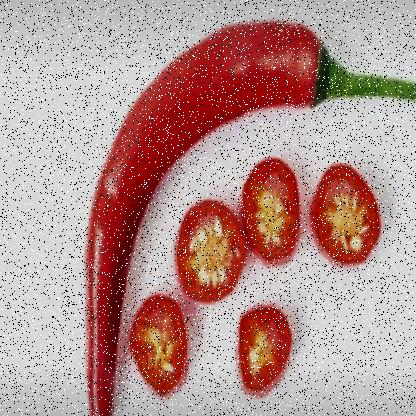chilli: (81, 10, 332, 397)
